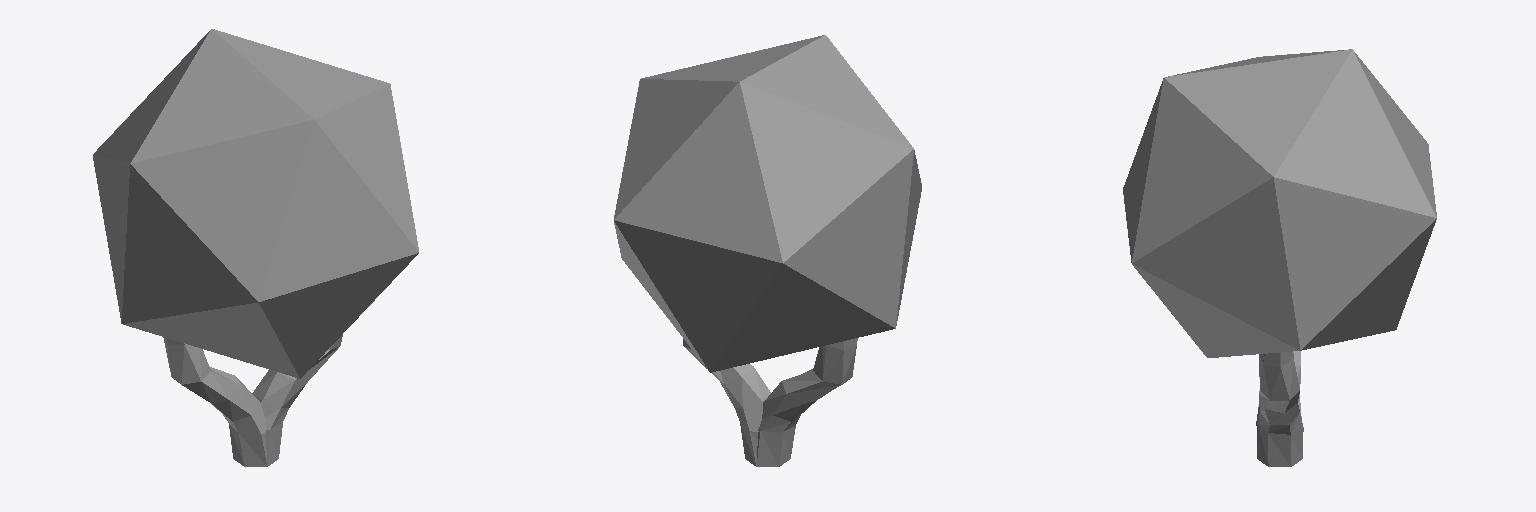
The model's file is Bush2.obj.
3 views of the same model, side by side, from view 1: azimuth 30°, elevation 25°; view 2: azimuth 150°, elevation 25°; view 3: azimuth 270°, elevation 25° (orthographic).
Parts seen in each view (by area): view 1: Cylinder.003; view 2: Cylinder.003; view 3: Cylinder.003.
Boxes of the visible parts, x1,y1,x2,y2 form: Cylinder.003: [93, 29, 418, 466]; Cylinder.003: [614, 35, 921, 466]; Cylinder.003: [1123, 49, 1436, 466].
Bounding box in the file's own units: 1.84 × 2.63 × 1.85.